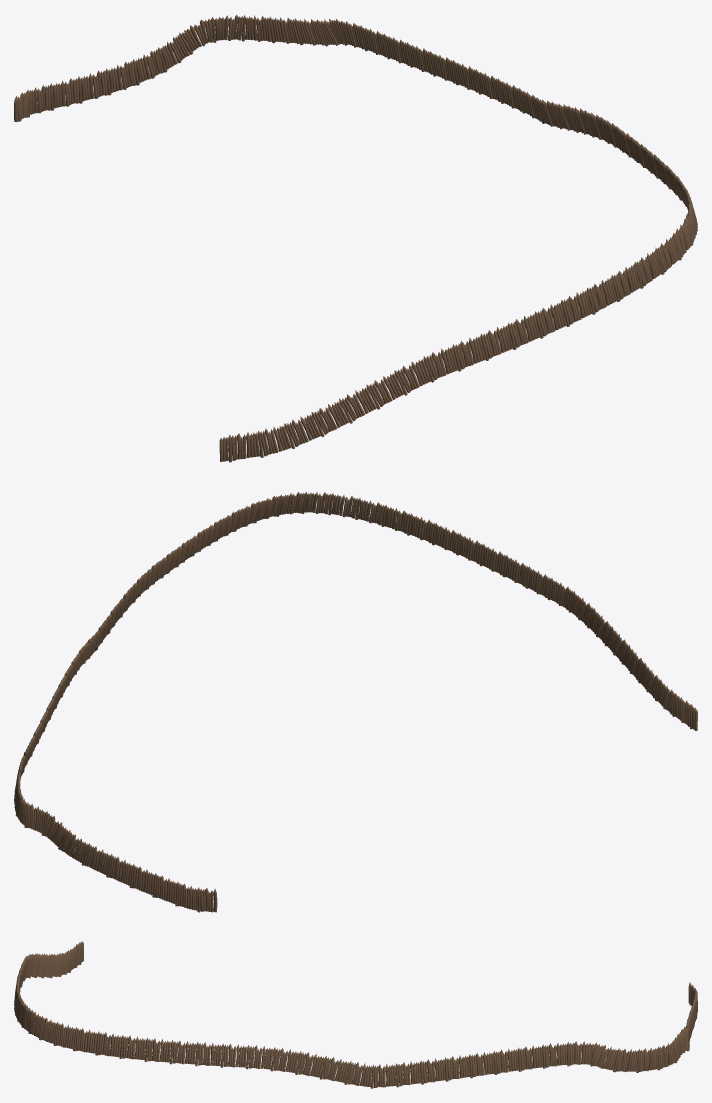
Rendered from villageWall.fbx.
The picture shows the model from 3 angles, top to bottom: view 1: azimuth 30°, elevation 25°; view 2: azimuth 150°, elevation 25°; view 3: azimuth 270°, elevation 25°; orthographic projection. The views are drawn at different scales.
Parts seen in each view (by area): view 1: villageWall; view 2: villageWall; view 3: villageWall.
Part boxes in pixels (x1=…): villageWall: x1=14, y1=15, x2=697, y2=462; villageWall: x1=14, y1=492, x2=697, y2=912; villageWall: x1=14, y1=941, x2=697, y2=1088.
Size of the model in its own units: 4314 by 1204 by 6145.
